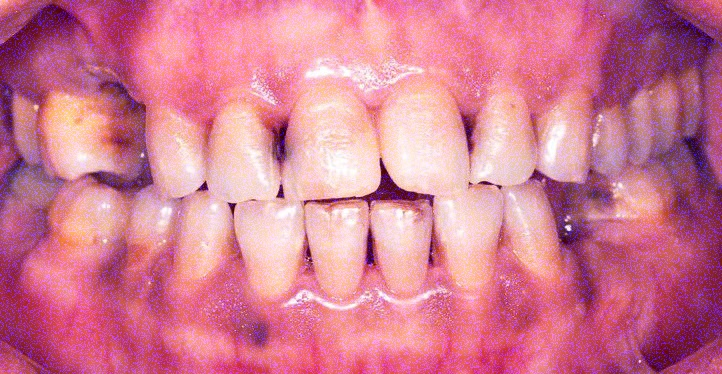karies: (553, 183, 622, 239), (267, 116, 297, 164), (454, 107, 483, 154)
